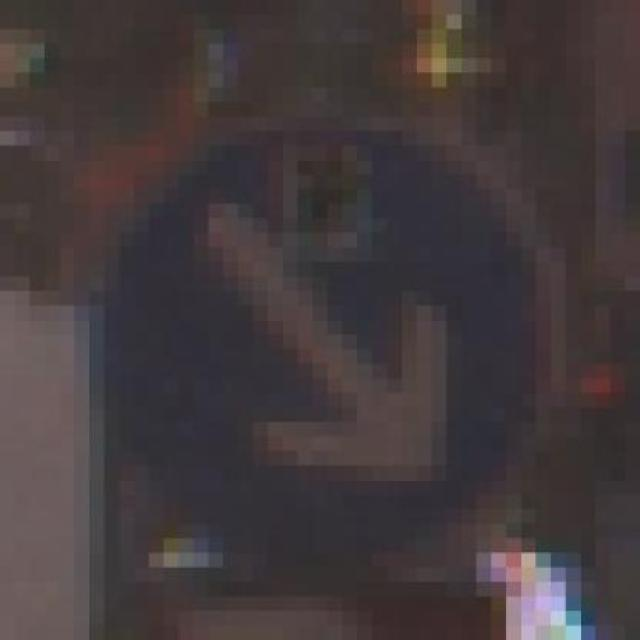Keep-Right: (59, 87, 566, 567)
